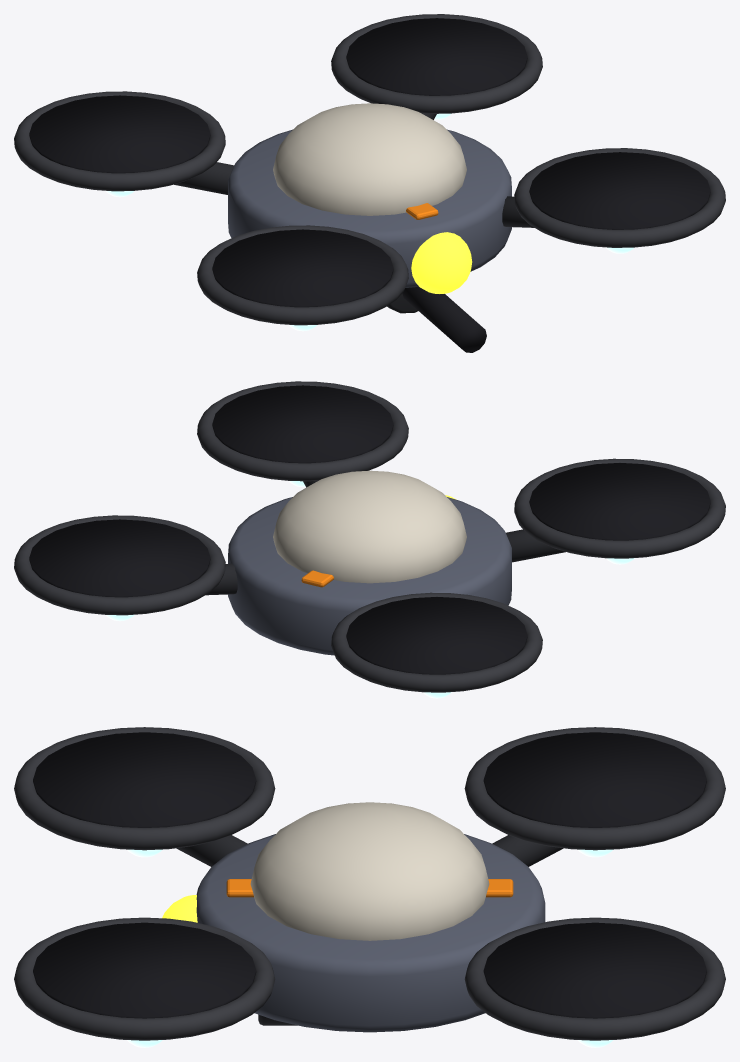
Rendered from Buzzer.fbx.
The picture shows the model from 3 angles, top to bottom: view 1: azimuth 30°, elevation 25°; view 2: azimuth 150°, elevation 25°; view 3: azimuth 270°, elevation 25°; orthographic projection. The views are drawn at different scales.
Parts seen in each view (by area): view 1: Part__Glass__1e1e22, Part__Metal__3a3b40, Part__SmoothPlastic__d9d2c3, Part__Metal__5a5f6e, Eye__Neon__ffc828, Part__Metal__1e1e22, Part__Metal__2b2c30; view 2: Part__Glass__1e1e22, Part__Metal__3a3b40, Part__SmoothPlastic__d9d2c3, Part__Metal__5a5f6e, Part__Metal__2b2c30; view 3: Part__Glass__1e1e22, Part__Metal__3a3b40, Part__Metal__5a5f6e, Part__SmoothPlastic__d9d2c3, Part__Metal__2b2c30, Part__SmoothPlastic__ff8c1e, Part__Neon__78c8ff, Eye__Neon__ffc828.
Boxes of the visible parts, left/top/right/bottom form: Part__Glass__1e1e22: left=29, top=18, right=710, bottom=307; Part__Metal__3a3b40: left=14, top=14, right=725, bottom=325; Part__SmoothPlastic__d9d2c3: left=273, top=103, right=466, bottom=215; Part__Metal__5a5f6e: left=228, top=129, right=511, bottom=287; Eye__Neon__ffc828: left=411, top=232, right=472, bottom=293; Part__Metal__1e1e22: left=402, top=286, right=486, bottom=352; Part__Metal__2b2c30: left=174, top=113, right=534, bottom=313; Part__Glass__1e1e22: left=29, top=385, right=710, bottom=674; Part__Metal__3a3b40: left=14, top=381, right=725, bottom=692; Part__SmoothPlastic__d9d2c3: left=273, top=470, right=466, bottom=583; Part__Metal__5a5f6e: left=228, top=497, right=511, bottom=655; Part__Metal__2b2c30: left=205, top=480, right=565, bottom=595; Part__Glass__1e1e22: left=33, top=732, right=706, bottom=1018; Part__Metal__3a3b40: left=14, top=727, right=725, bottom=1040; Part__Metal__5a5f6e: left=196, top=834, right=545, bottom=1032; Part__SmoothPlastic__d9d2c3: left=250, top=802, right=489, bottom=940; Part__Metal__2b2c30: left=176, top=835, right=563, bottom=1025; Part__SmoothPlastic__ff8c1e: left=226, top=879, right=513, bottom=897; Part__Neon__78c8ff: left=127, top=849, right=612, bottom=1047; Eye__Neon__ffc828: left=162, top=895, right=197, bottom=922.
Size of the model in its own units: 4.47 by 1.4 by 4.47.
